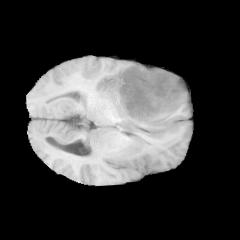glioma: (117, 62, 186, 128)
